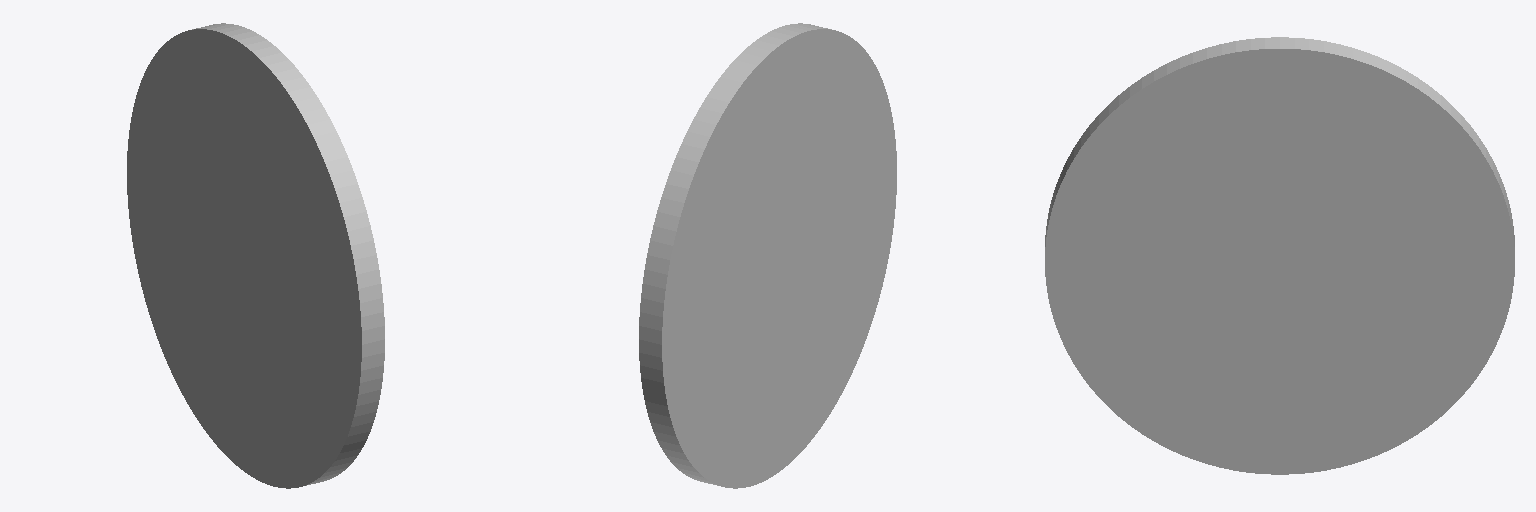
Rendered from board.obj.
The picture shows the model from 3 angles: view 1: azimuth 30°, elevation 25°; view 2: azimuth 150°, elevation 25°; view 3: azimuth 270°, elevation 25°; orthographic projection.
Parts seen in each view (by area): view 1: Cylinder; view 2: Cylinder; view 3: Cylinder.
Boxes of the visible parts, x1,y1,x2,y2 form: Cylinder: [127, 23, 384, 488]; Cylinder: [639, 23, 896, 488]; Cylinder: [1045, 37, 1514, 474].
Size of the model in its own units: 0.0387 by 0.68 by 0.68.